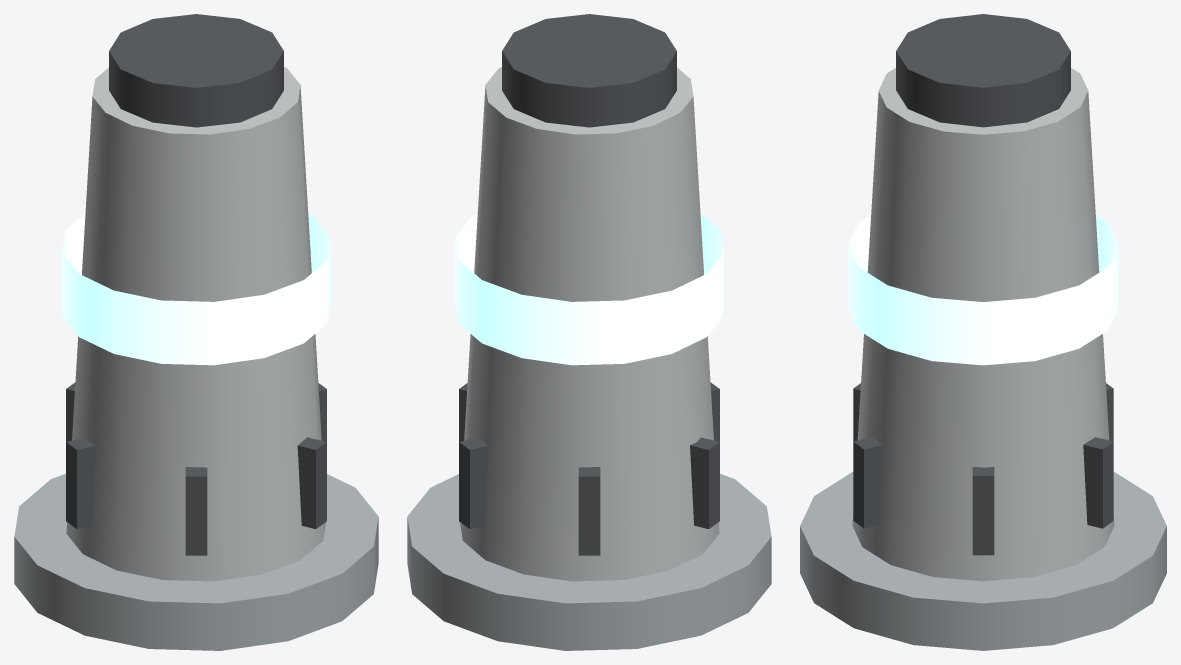
Rendered from an_mist_b.glb.
The picture shows the model from 3 angles, left to right: view 1: azimuth 30°, elevation 25°; view 2: azimuth 150°, elevation 25°; view 3: azimuth 270°, elevation 25°; orthographic projection.
Visible parts, largest first — view 1: an_mist_b; view 2: an_mist_b; view 3: an_mist_b.
Part boxes in pixels (<box>): an_mist_b: <box>14,14,378,650</box>; an_mist_b: <box>407,14,771,650</box>; an_mist_b: <box>800,14,1166,650</box>.
Size of the model in its own units: 0.84 by 1.32 by 0.84.
